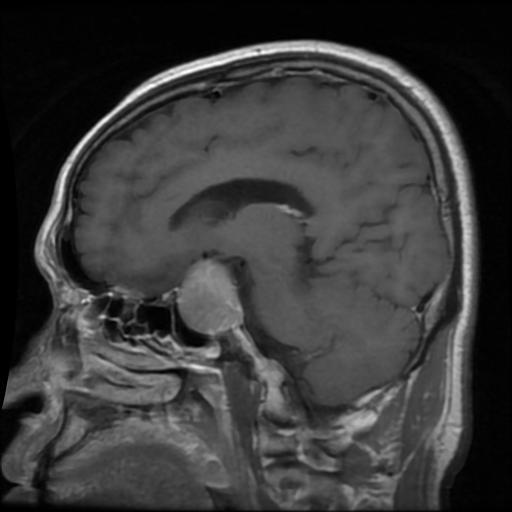Pituirity_tumour: (177, 257, 244, 334)
